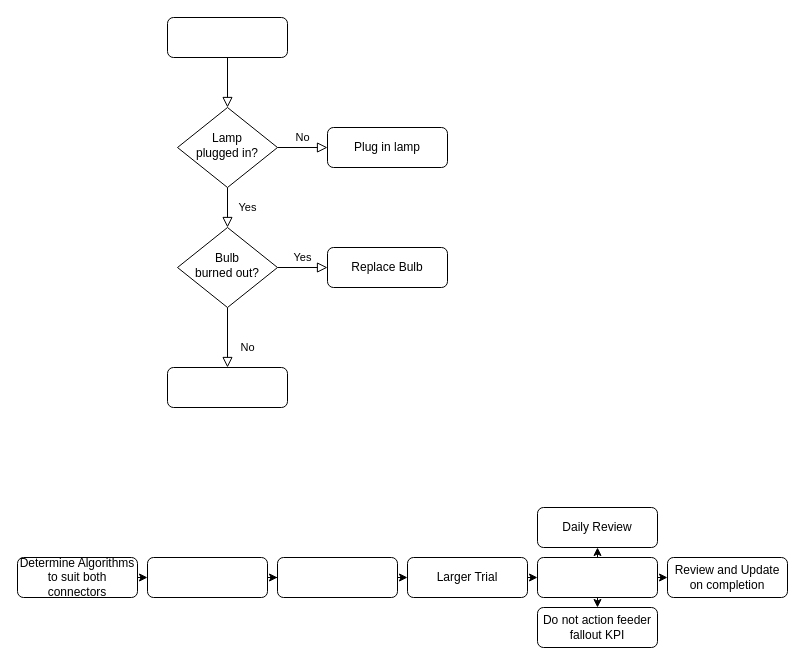
Some shapes in this 805 by 665 pixel diagram are drawn without their labels. Here are the shapes that lost their labels. From the top down, the box of each, then its label:
(166, 16, 288, 58): Pick-Up Component
(166, 366, 288, 408): Repair Lamp
(146, 556, 268, 598): Small scale test
(276, 556, 398, 598): LOCK SETTINGS
(536, 556, 658, 598): Record and Monitor DPM and Feeder fallout
